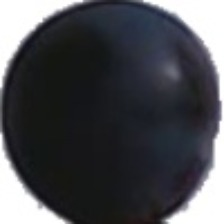grapes: (16, 29, 188, 180)
